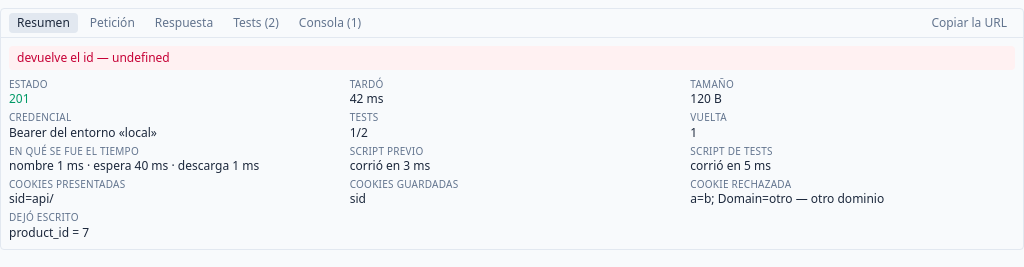
Test: una petición de la corrida, abierta › los tests y la consola salen con su cuenta en la pestaña
The image size is (1024, 267).
Click the button "Tests (2)": point(256, 23) x1=225 y1=13 x2=287 y2=33
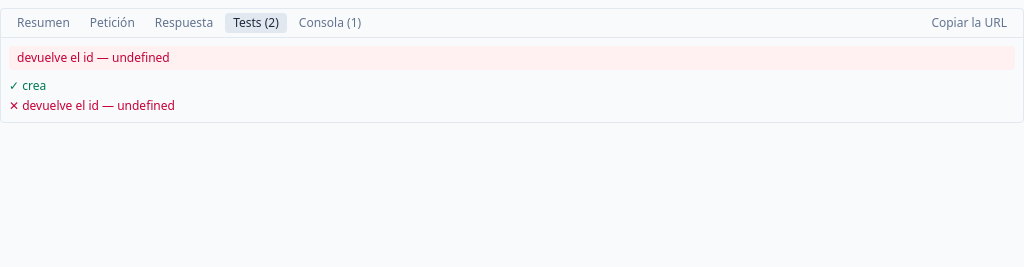
expect the list item "✓ crea" is shown: met, box x1=9 y1=77 x2=46 y2=94
expect the list item "✕ devuelve el id — undefined" is shown: met, box x1=9 y1=97 x2=175 y2=114
Click the button "Consola (1)": point(330, 23) x1=291 y1=13 x2=369 y2=33
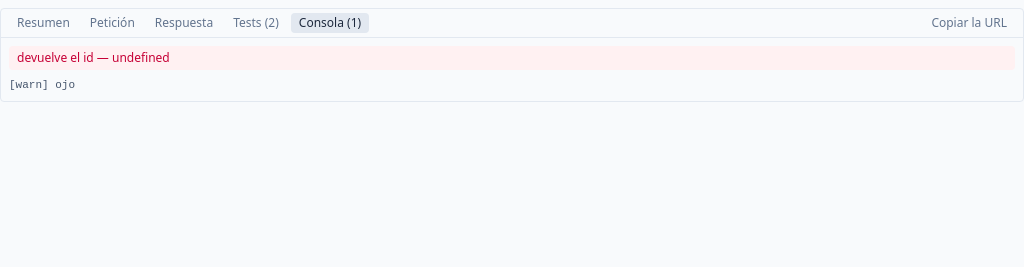
expect the text "[warn] ojo" is shown: met, box x1=9 y1=79 x2=75 y2=91
